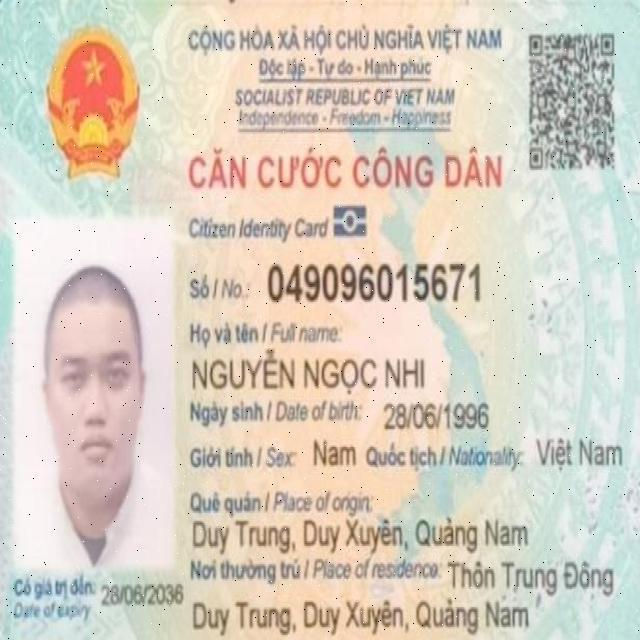current_place: (192, 597, 532, 640), (446, 556, 617, 597)
dob: (385, 399, 493, 433)
expire_date: (99, 581, 186, 608)
gender: (311, 435, 358, 469)
id: (268, 259, 484, 304)
name: (190, 347, 430, 397)
nationality: (535, 433, 625, 473)
origin_place: (190, 515, 529, 553)
